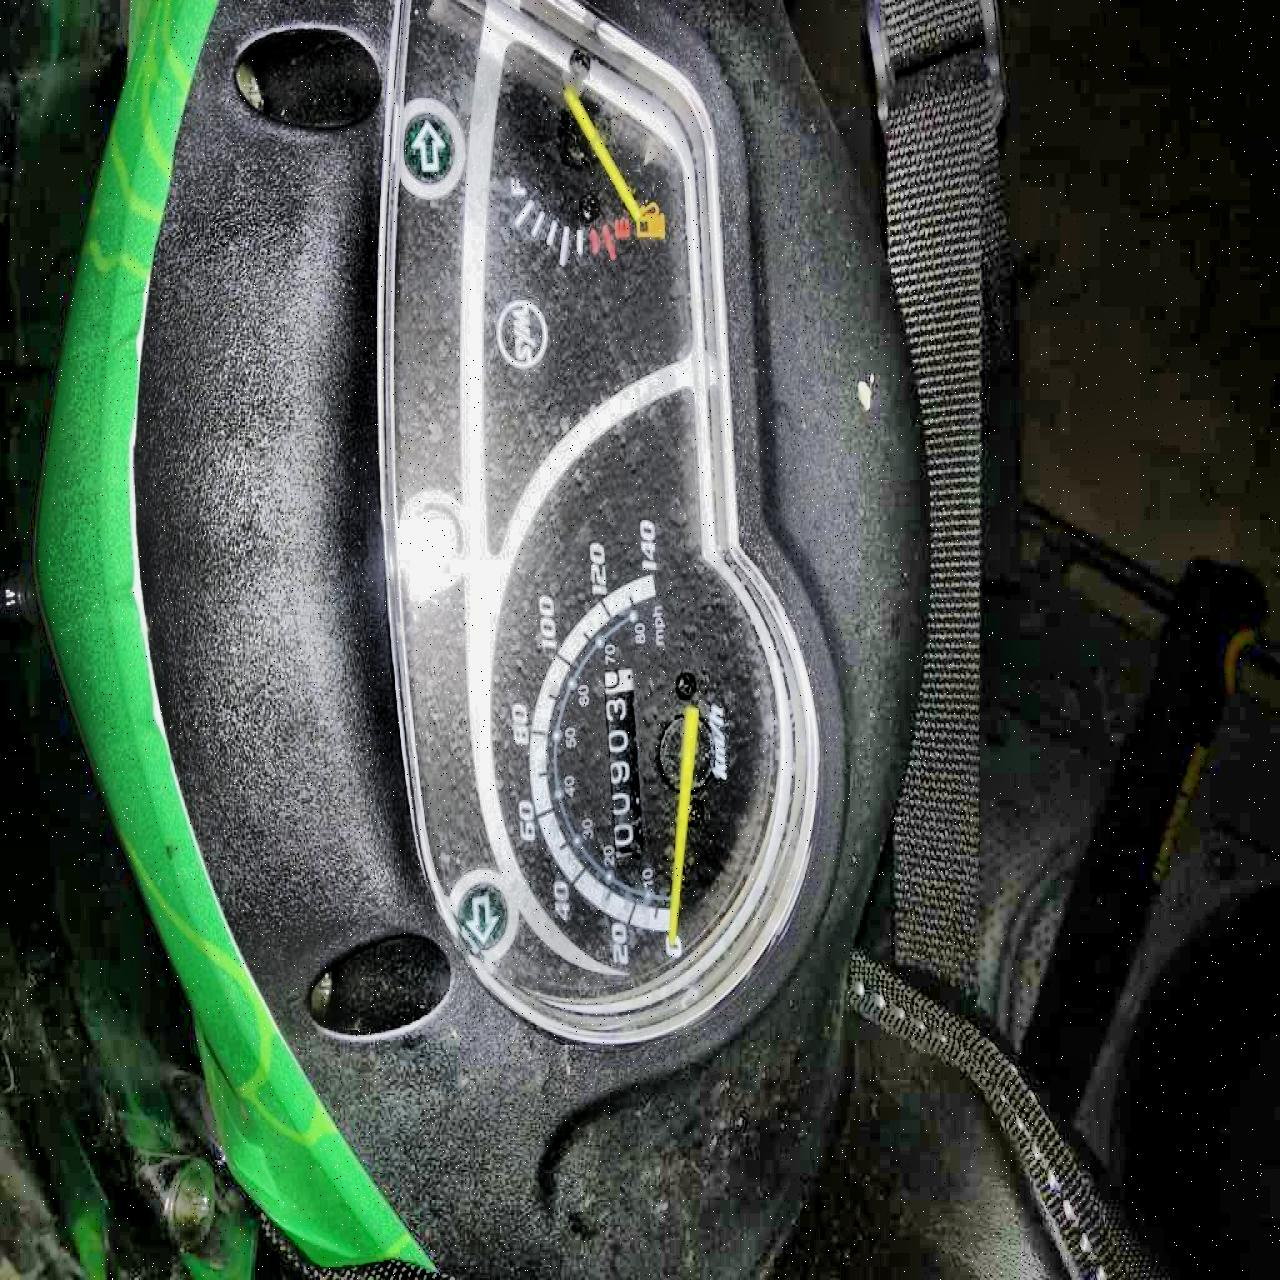0: (606, 727, 628, 754), (611, 821, 634, 845), (610, 790, 629, 815), (601, 667, 620, 688), (601, 843, 613, 855)
2: (602, 855, 613, 863)
3: (604, 695, 626, 722)
9: (607, 758, 631, 783)
odometer: (599, 661, 647, 862)
